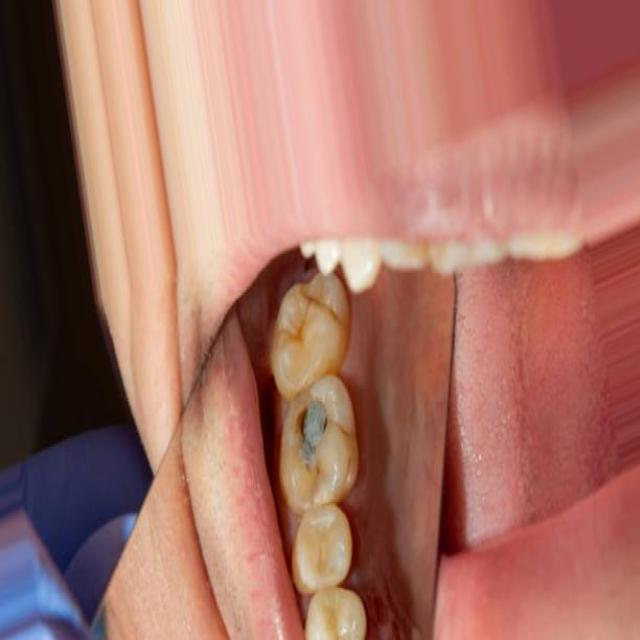caries: (285, 383, 328, 480)
